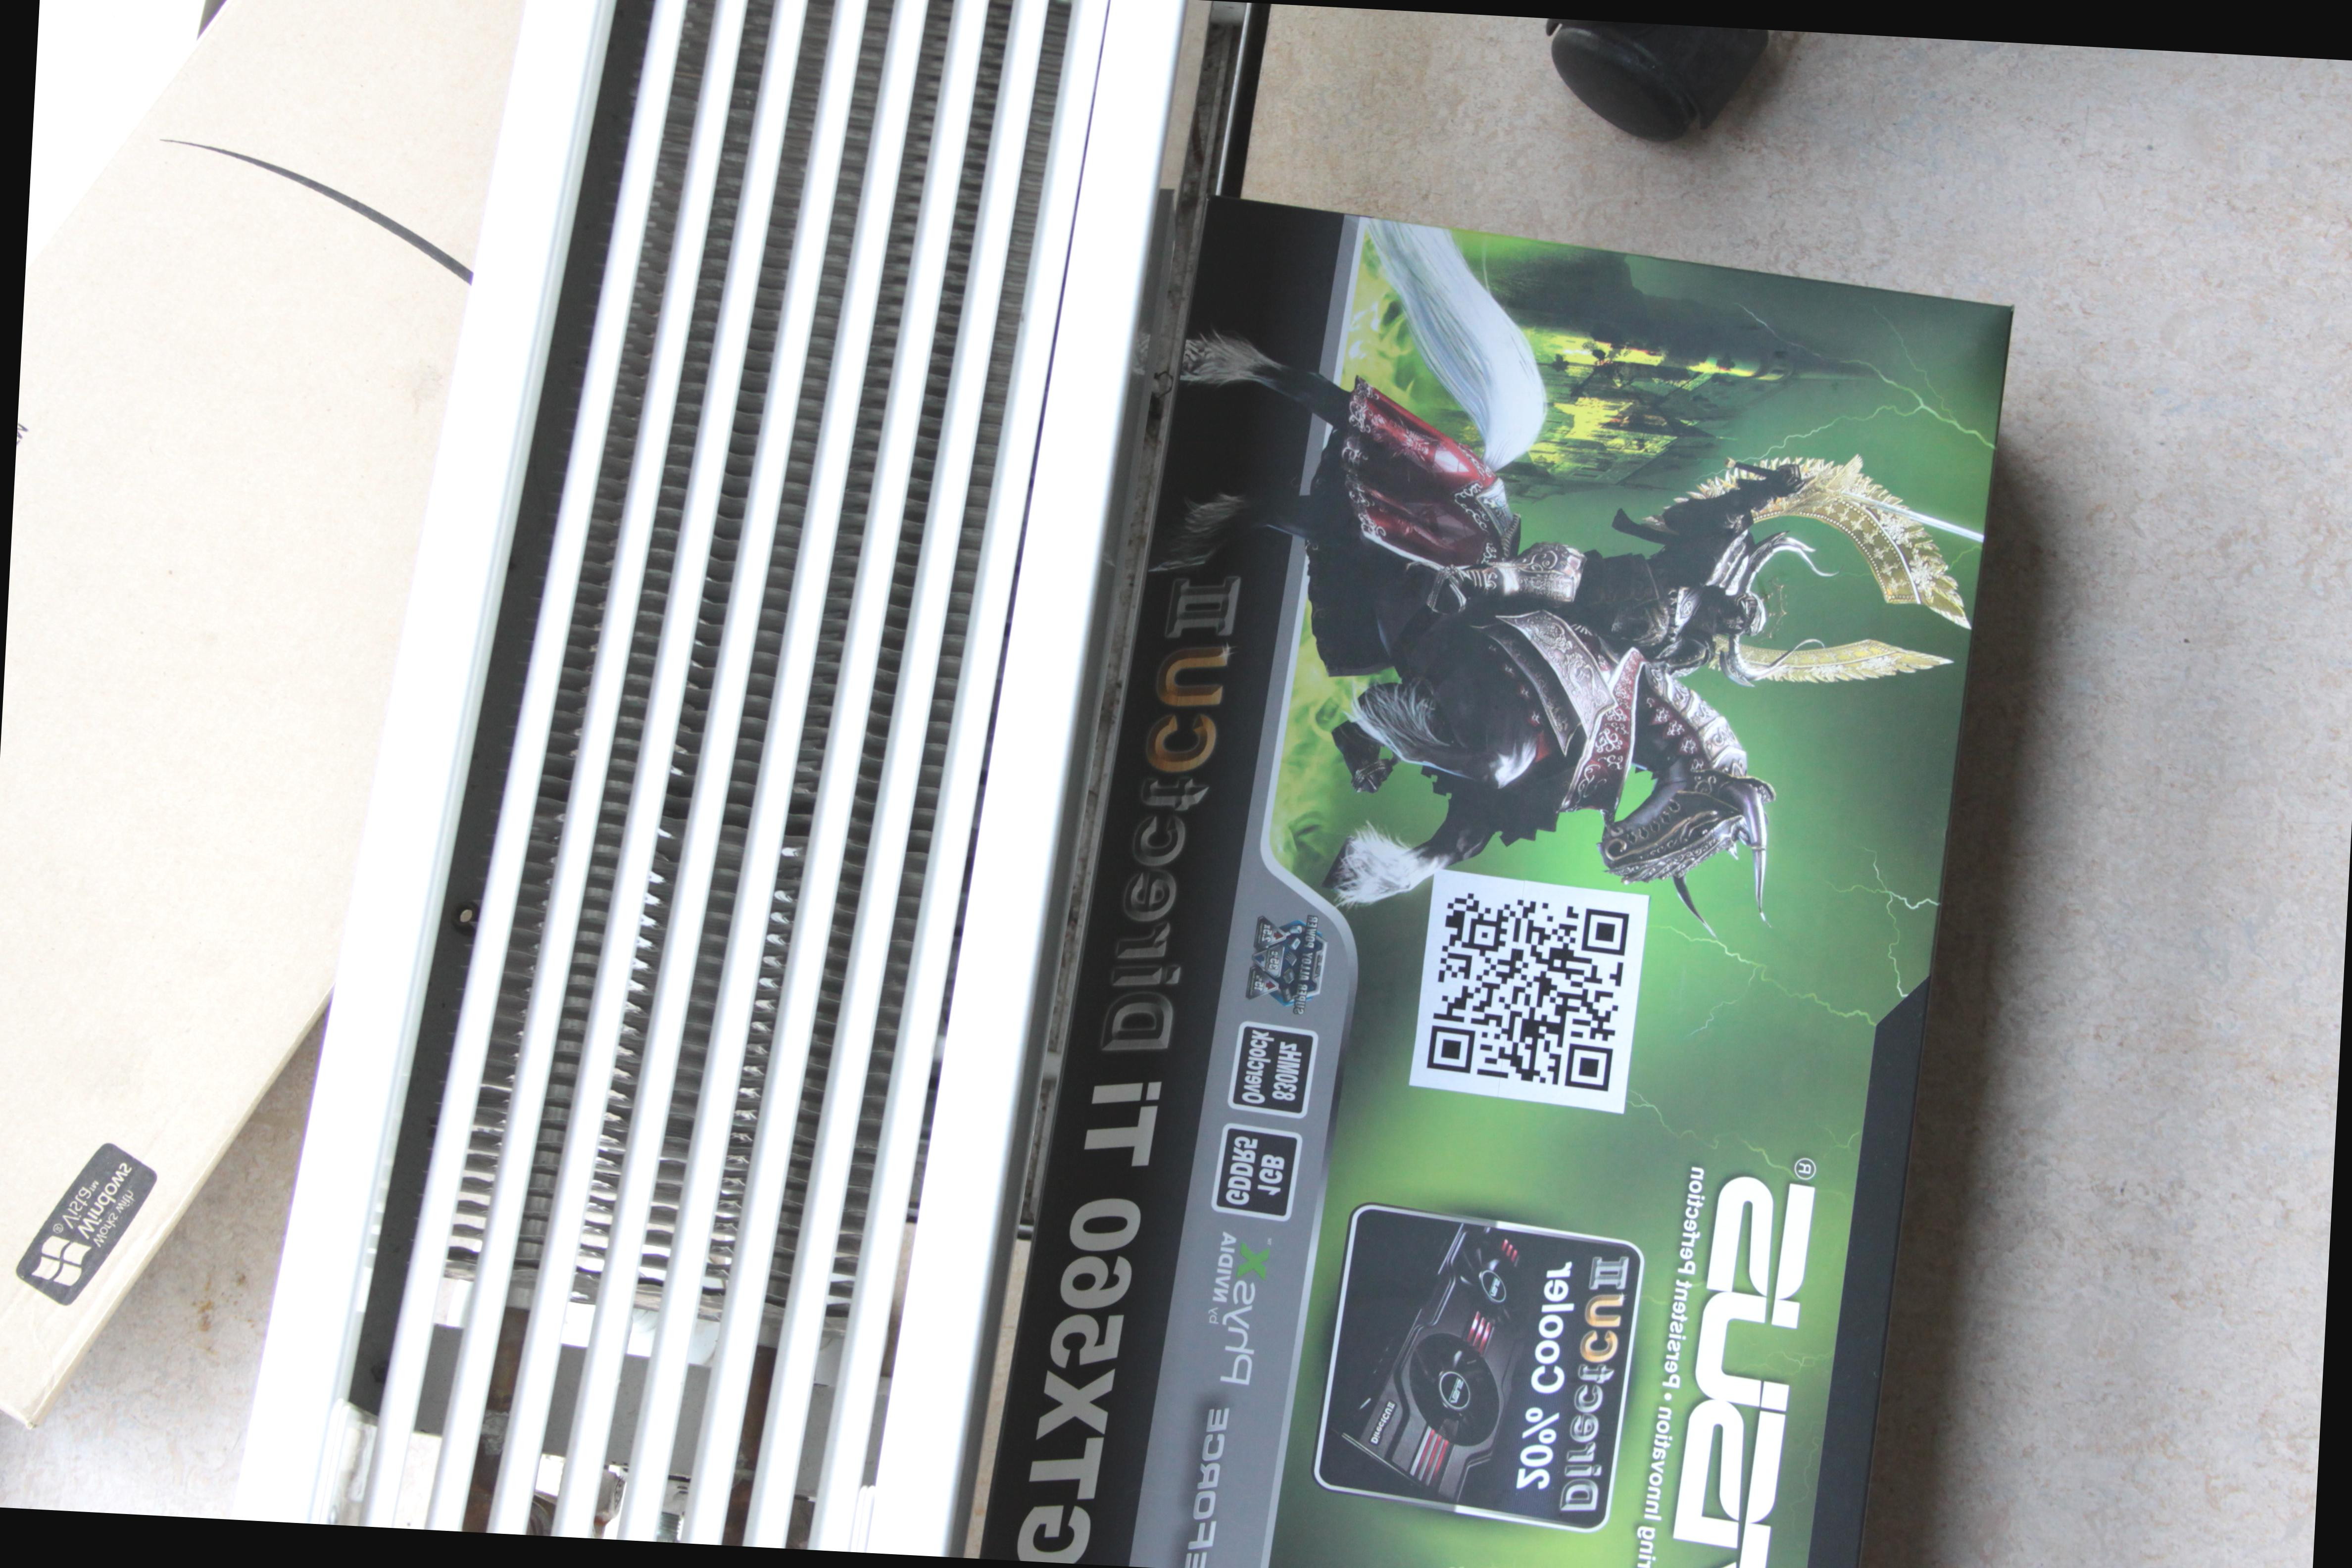QR: (1412, 859, 1645, 1116)
